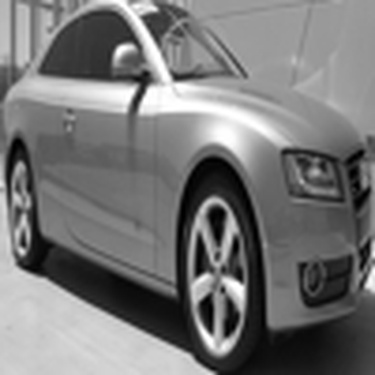car: (1, 3, 368, 370)
